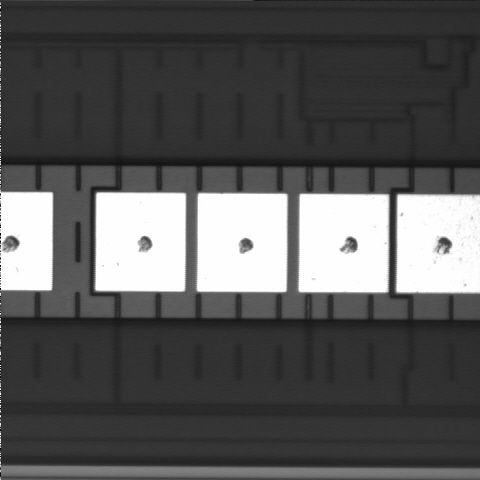pad: (197, 193, 287, 292), (96, 193, 186, 291), (299, 194, 389, 292)
